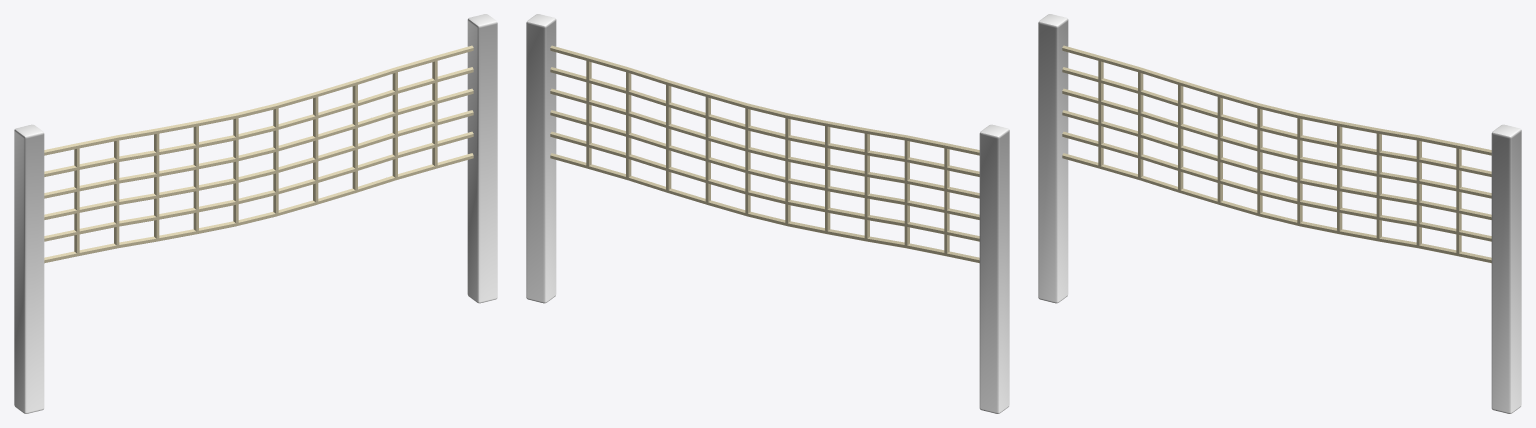
Rendered from mreza.fbx.
3 renders of one model, left to right at view 1: azimuth 30°, elevation 25°; view 2: azimuth 150°, elevation 25°; view 3: azimuth 330°, elevation 25°, orthographic.
Parts seen in each view (by area): view 1: pCube1; view 2: pCube1; view 3: pCube1.
Part boxes in pixels (x1,y1,x2,y2): pCube1: (14,14,497,413); pCube1: (526,14,1009,413); pCube1: (1038,14,1521,413).
Size of the model in its own units: 637 by 358 by 27.64.
